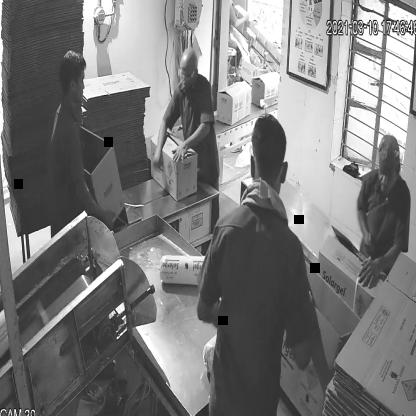no_glove: (352, 230, 403, 300), (76, 171, 117, 236), (171, 123, 218, 173), (143, 106, 172, 180), (348, 195, 376, 252)
